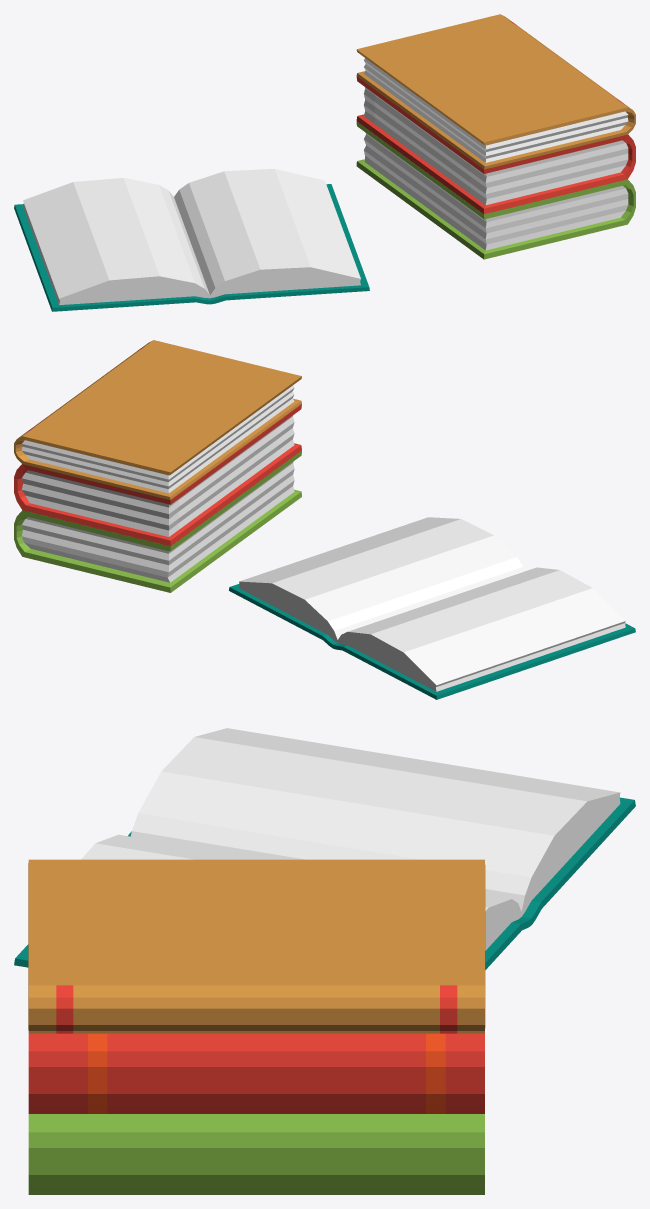
File: Books_01.obj
3 views of the same model, one above another, from view 1: azimuth 30°, elevation 25°; view 2: azimuth 150°, elevation 25°; view 3: azimuth 270°, elevation 25° (orthographic). The views are drawn at different scales.
Visible parts, largest first — view 1: book_Cube.026, Book1_Cube.025, book3_Cube, book2_Cube.024; view 2: book_Cube.026, Book1_Cube.025, book3_Cube, book2_Cube.024; view 3: Book1_Cube.025, book_Cube.026, book3_Cube, book2_Cube.024.
Boxes of the visible parts, bbox=[...] form: book_Cube.026: bbox=[14, 168, 369, 311]; Book1_Cube.025: bbox=[356, 14, 635, 169]; book3_Cube: bbox=[356, 121, 635, 259]; book2_Cube.024: bbox=[356, 76, 635, 214]; book_Cube.026: bbox=[229, 517, 635, 699]; Book1_Cube.025: bbox=[14, 340, 301, 500]; book3_Cube: bbox=[14, 450, 301, 592]; book2_Cube.024: bbox=[14, 404, 301, 546]; Book1_Cube.025: bbox=[28, 859, 485, 1033]; book_Cube.026: bbox=[14, 728, 635, 969]; book3_Cube: bbox=[28, 1114, 484, 1194]; book2_Cube.024: bbox=[28, 1033, 484, 1113].
Size of the model in its own units: 36.82 by 7.94 by 20.92.
